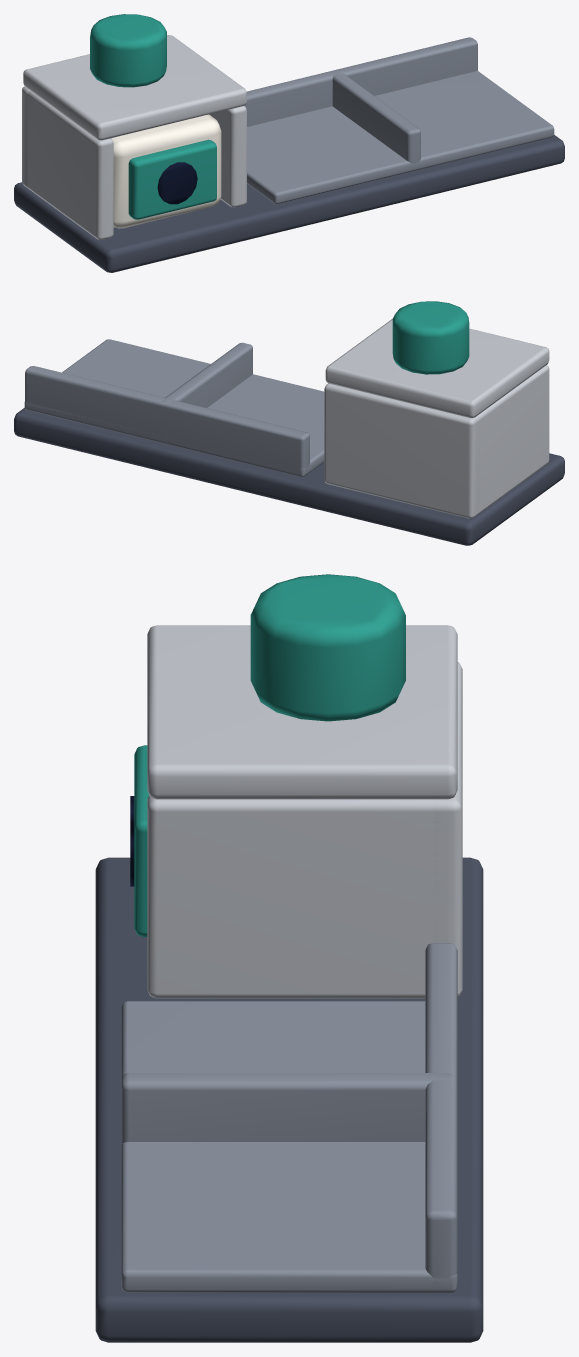
The model's file is Fx_Co2FilterHolder.glb.
3 renders of one model, top to bottom at view 1: azimuth 30°, elevation 25°; view 2: azimuth 150°, elevation 25°; view 3: azimuth 270°, elevation 25°, orthographic. The views are drawn at different scales.
Visible parts, largest first — view 1: Fx_Co2FilterHolder.Tray, Fx_Co2FilterHolder.Socket, Fx_Co2FilterHolder.Base, Fx_Co2FilterHolder.Move_Canister, Fx_Co2FilterHolder.Duct; view 2: Fx_Co2FilterHolder.Socket, Fx_Co2FilterHolder.Tray, Fx_Co2FilterHolder.Base, Fx_Co2FilterHolder.Duct; view 3: Fx_Co2FilterHolder.Socket, Fx_Co2FilterHolder.Tray, Fx_Co2FilterHolder.Base, Fx_Co2FilterHolder.Duct, Fx_Co2FilterHolder.Move_Canister.
Part boxes in pixels (bbox=[...]): Fx_Co2FilterHolder.Tray: bbox=[244, 37, 554, 204]; Fx_Co2FilterHolder.Socket: bbox=[22, 35, 246, 239]; Fx_Co2FilterHolder.Base: bbox=[14, 135, 564, 272]; Fx_Co2FilterHolder.Move_Canister: bbox=[111, 114, 221, 228]; Fx_Co2FilterHolder.Duct: bbox=[90, 14, 166, 87]; Fx_Co2FilterHolder.Socket: bbox=[324, 319, 549, 518]; Fx_Co2FilterHolder.Tray: bbox=[24, 339, 324, 476]; Fx_Co2FilterHolder.Base: bbox=[14, 407, 564, 545]; Fx_Co2FilterHolder.Duct: bbox=[392, 301, 469, 374]; Fx_Co2FilterHolder.Socket: bbox=[147, 625, 462, 998]; Fx_Co2FilterHolder.Tray: bbox=[121, 943, 457, 1292]; Fx_Co2FilterHolder.Base: bbox=[95, 857, 483, 1342]; Fx_Co2FilterHolder.Duct: bbox=[250, 574, 405, 721]; Fx_Co2FilterHolder.Move_Canister: bbox=[130, 745, 149, 936].
Bounding box in the file's own units: 0.82 × 0.32 × 0.3.
1 material, 1 textured.
